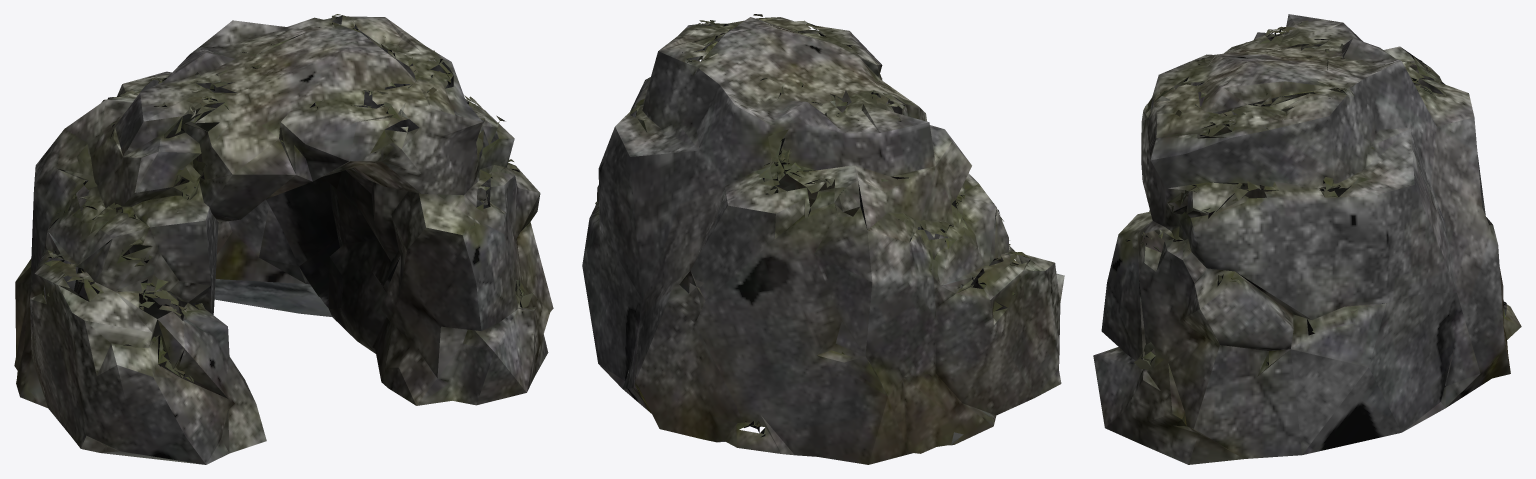
File: cave-arch.phone.glb
3 views of the same model, side by side, from view 1: azimuth 30°, elevation 25°; view 2: azimuth 150°, elevation 25°; view 3: azimuth 270°, elevation 25° (orthographic). The views are drawn at different scales.
Parts seen in each view (by area): view 1: cave-arch-phone; view 2: cave-arch-phone; view 3: cave-arch-phone.
Boxes of the visible parts, x1,y1,x2,y2 form: cave-arch-phone: (14, 14, 553, 464); cave-arch-phone: (582, 14, 1064, 464); cave-arch-phone: (1093, 14, 1521, 464).
Bounding box in the file's own units: 8.15 × 5.39 × 6.58.
1 material, 1 textured.
